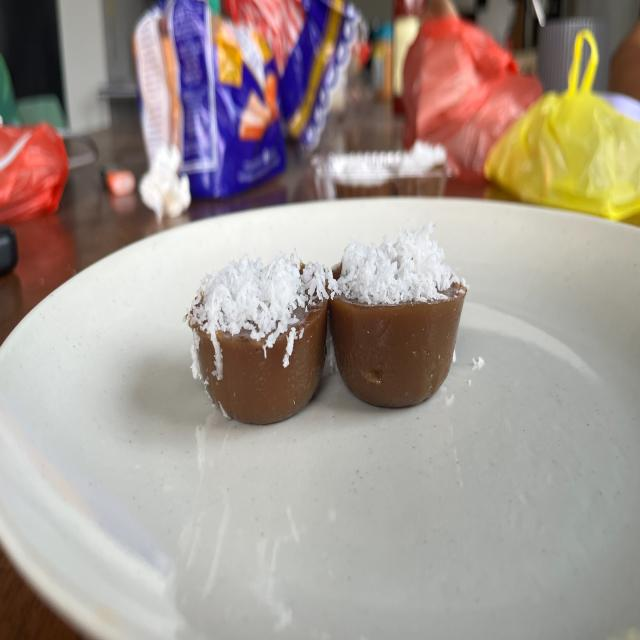Kuih lompang: (186, 251, 336, 424), (330, 222, 466, 407)
